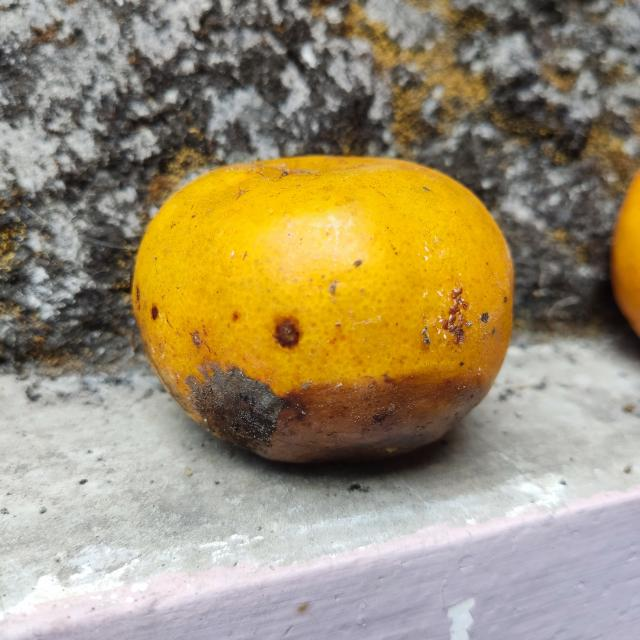orange: (129, 158, 517, 480)
